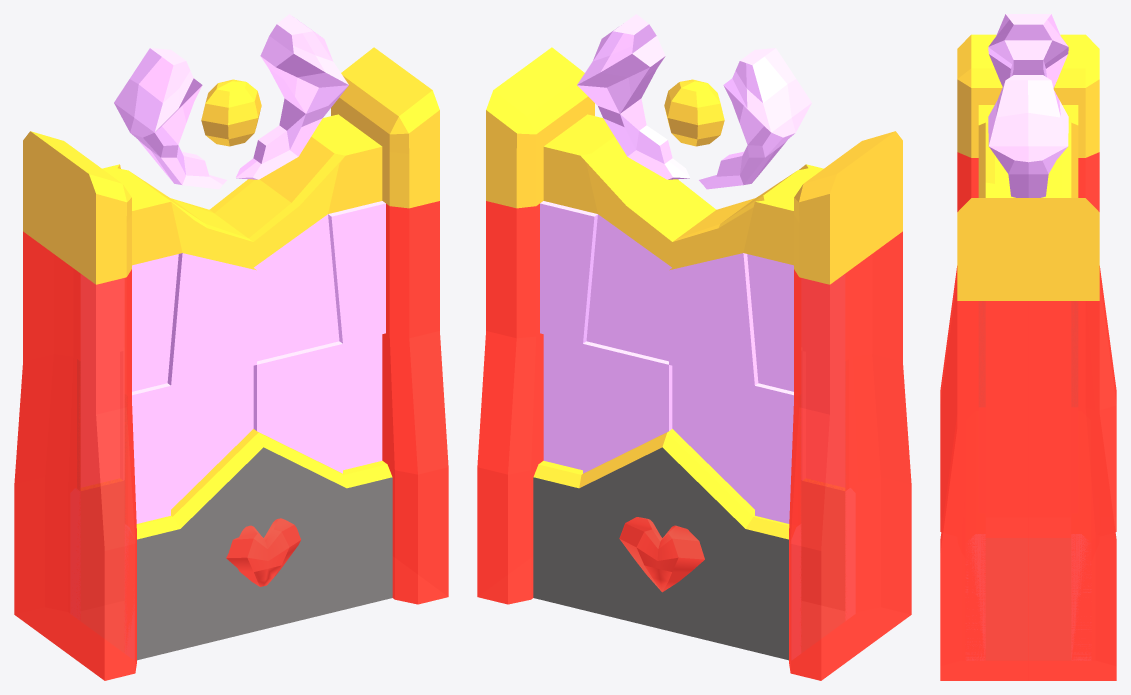
File: finalWall.fbx
The picture shows the model from 3 angles, left to right: view 1: azimuth 30°, elevation 25°; view 2: azimuth 150°, elevation 25°; view 3: azimuth 270°, elevation 25°; orthographic projection. The views are drawn at different scales.
Parts seen in each view (by area): view 1: finalWall, CrystalBottom2, CrystalSphere1, crystalHeart2; view 2: finalWall, CrystalBottom2, crystalHeart1, CrystalSphere1; view 3: finalWall, CrystalBottom2.
Part boxes in pixels (x1,y1,x2,y2): finalWall: (14, 47, 448, 680); CrystalBottom2: (114, 14, 348, 189); CrystalSphere1: (201, 79, 261, 146); crystalHeart2: (226, 518, 300, 586); finalWall: (477, 47, 911, 680); CrystalBottom2: (577, 14, 811, 189); crystalHeart1: (619, 517, 704, 592); CrystalSphere1: (664, 79, 724, 146); finalWall: (940, 34, 1116, 680); CrystalBottom2: (988, 14, 1068, 197).
Bounding box in the file's own units: 180 × 283 × 82.02.
